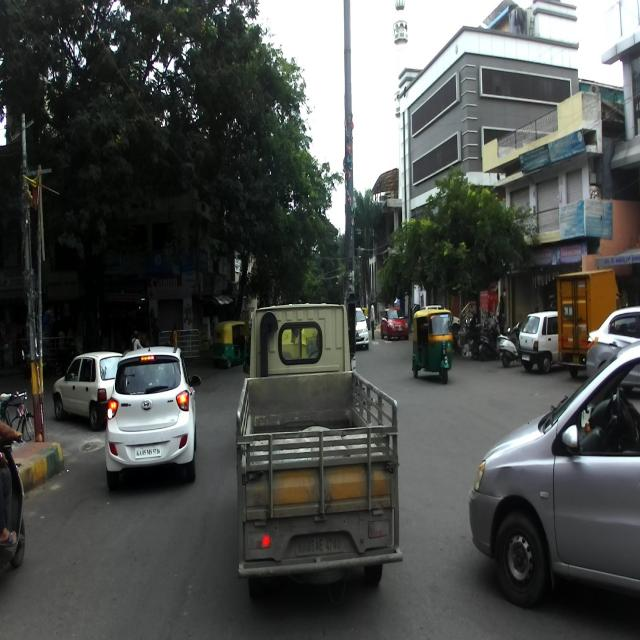car: (467, 342, 639, 603), (103, 345, 201, 489), (52, 349, 123, 430)
truck: (234, 300, 403, 598)
